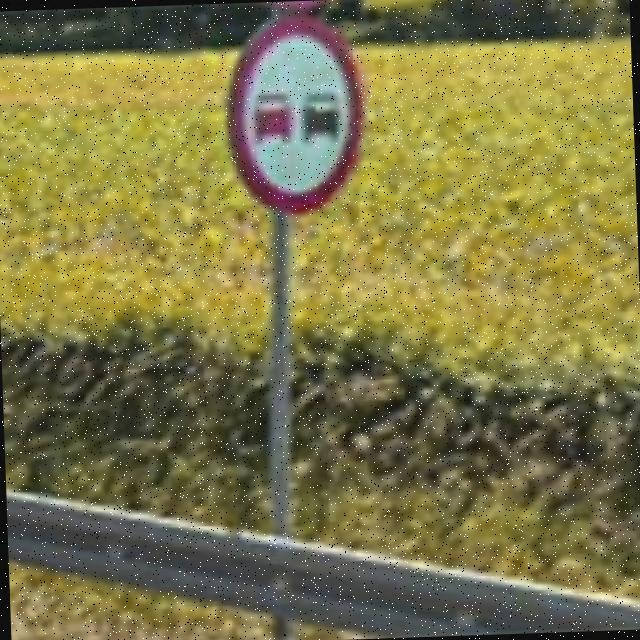Zakaz wyprzedzania: (222, 9, 366, 216)
